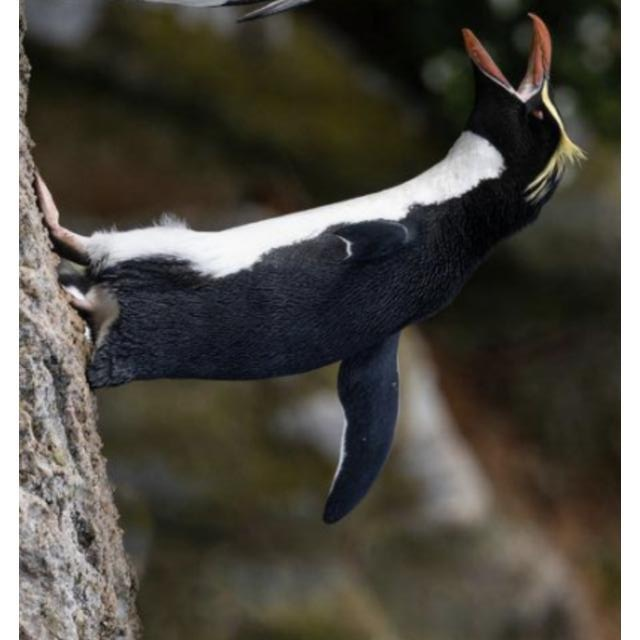penguin: (33, 12, 586, 525)
